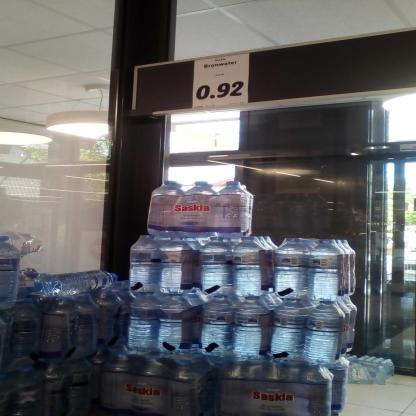prtg: (193, 54, 250, 109)
